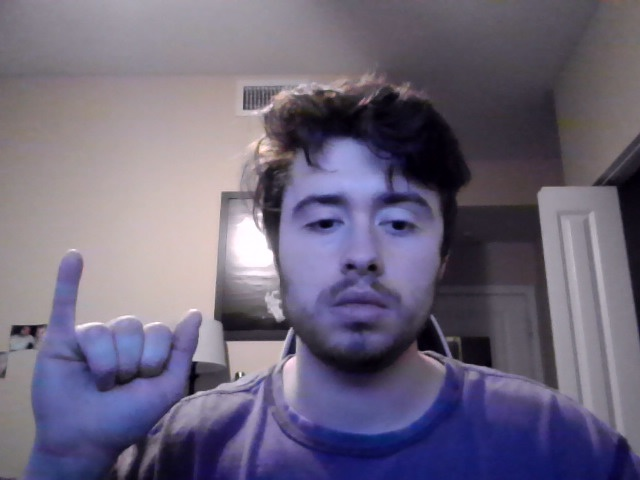i: (29, 248, 203, 460)
